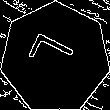L_SE: (26, 33, 84, 83)
